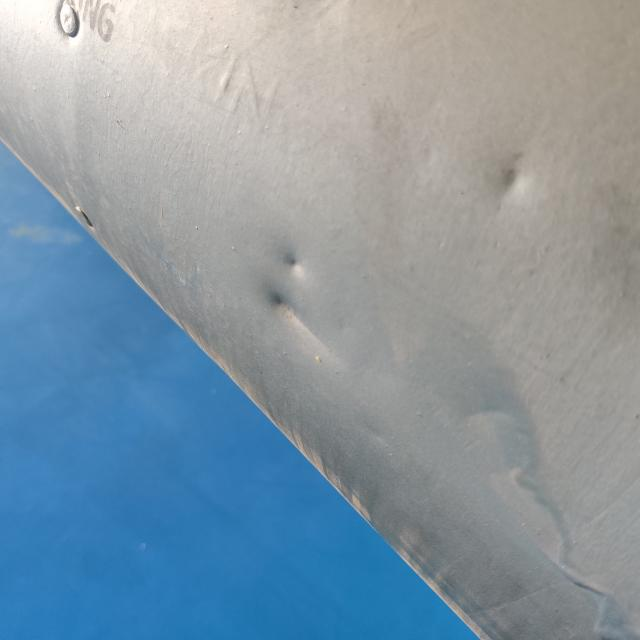dent: (256, 275, 343, 369), (472, 128, 552, 222), (275, 237, 320, 286)
